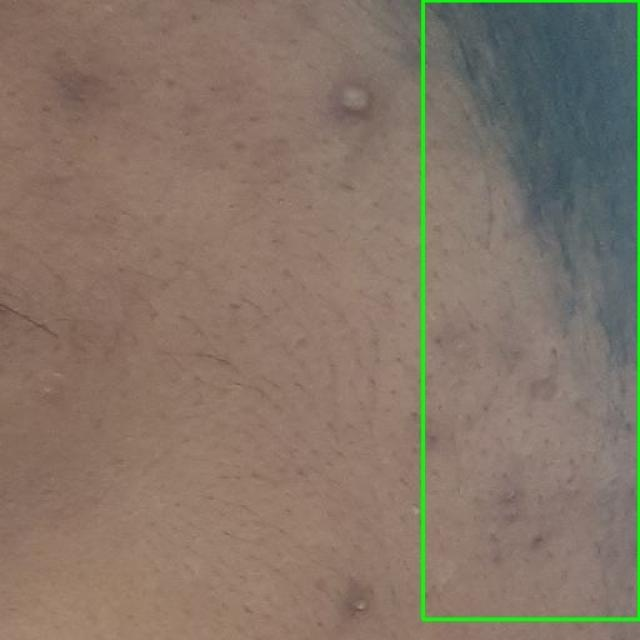Seborrheic Dermatitis: (422, 0, 639, 619)
